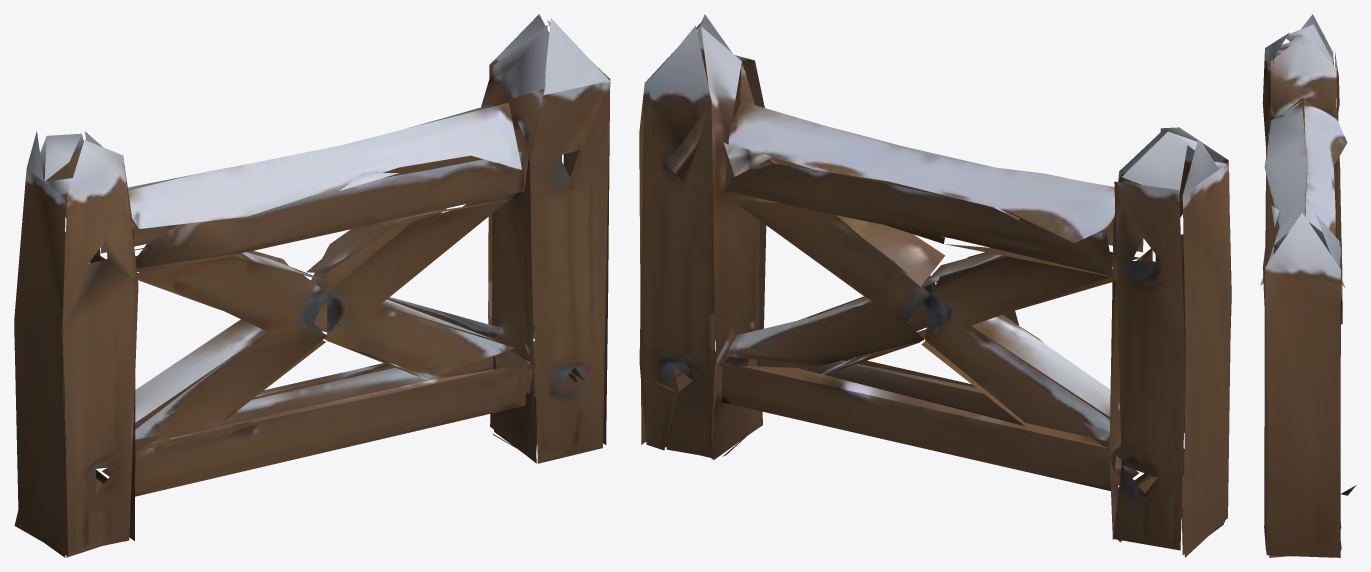
The model's file is fence_gen_b.glb.
3 renders of one model, left to right at view 1: azimuth 30°, elevation 25°; view 2: azimuth 150°, elevation 25°; view 3: azimuth 270°, elevation 25°, orthographic. The views are drawn at different scales.
Visible parts, largest first — view 1: fence_gen.001; view 2: fence_gen.001; view 3: fence_gen.001.
Part boxes in pixels (x1,y1,x2,y2): fence_gen.001: (14,14,610,557); fence_gen.001: (639,14,1231,557); fence_gen.001: (1260,14,1356,557).
Bounding box in the file's own units: 1.91 × 1.41 × 0.3691.
1 material, 1 textured.
